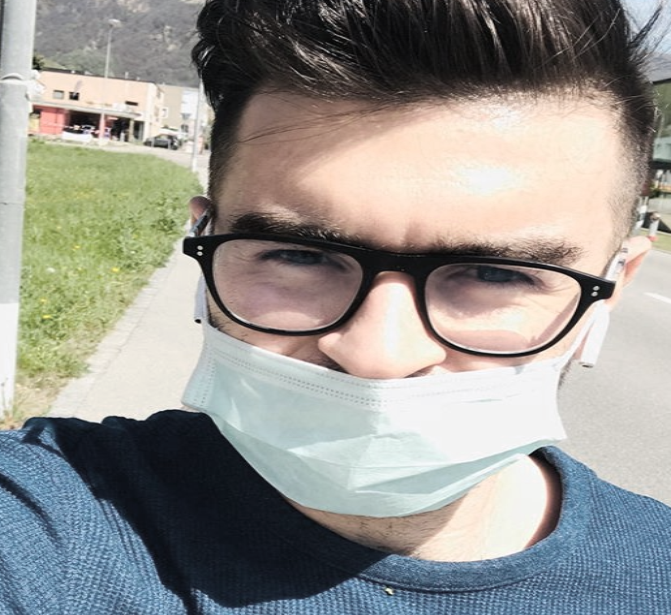mask_weared_incorrect: (175, 43, 665, 525)
